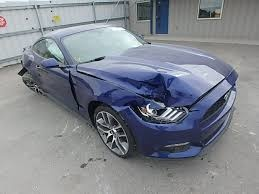Broken-glass: (130, 98, 189, 126)
Dent: (119, 72, 191, 102)
